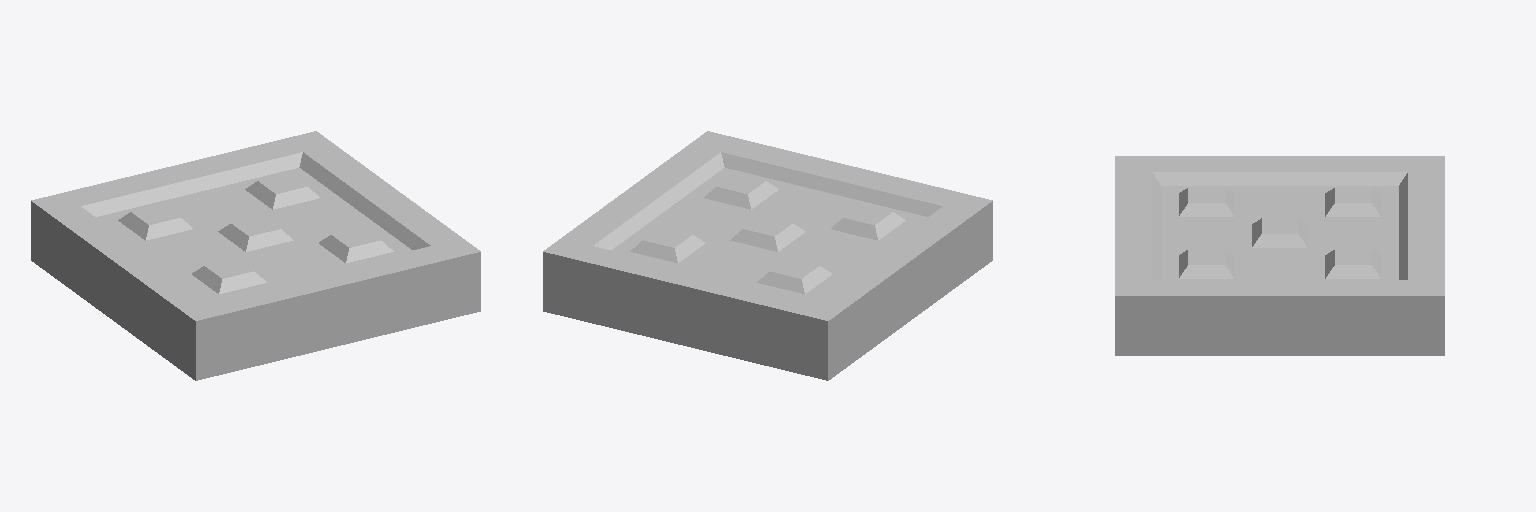
The model's file is BF_Block_Collector.obj.
3 renders of one model, left to right at view 1: azimuth 30°, elevation 25°; view 2: azimuth 150°, elevation 25°; view 3: azimuth 270°, elevation 25°, orthographic.
Visible parts, largest first — view 1: Cube_Cube.001; view 2: Cube_Cube.001; view 3: Cube_Cube.001.
Boxes of the visible parts, box(x1,y1,x2,y2) form: Cube_Cube.001: box(31, 131, 480, 380); Cube_Cube.001: box(543, 131, 992, 380); Cube_Cube.001: box(1115, 156, 1444, 355).
Size of the model in its own units: 5 by 1 by 5.